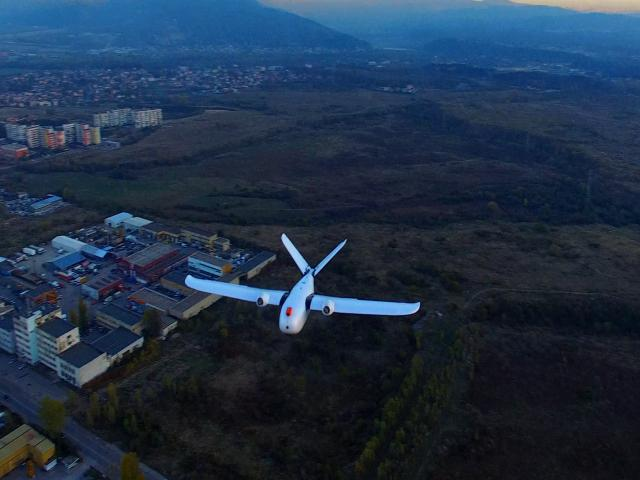plane: (186, 233, 418, 331)
